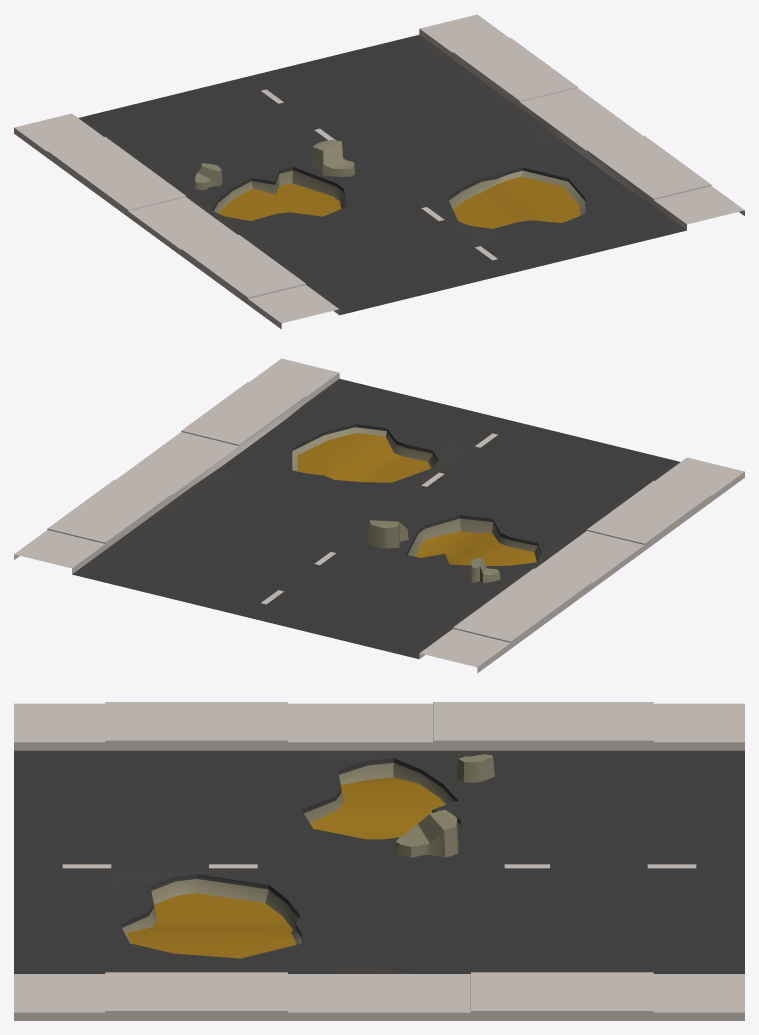
The model's file is quaternius-zombie-apocalypse-kit-march-street-straight-crack-2.glb.
The picture shows the model from 3 angles, top to bottom: view 1: azimuth 30°, elevation 25°; view 2: azimuth 150°, elevation 25°; view 3: azimuth 270°, elevation 25°; orthographic projection. The views are drawn at different scales.
Visible parts, largest first — view 1: Street_Straight_Crack2; view 2: Street_Straight_Crack2; view 3: Street_Straight_Crack2.
Part boxes in pixels (left/top/right/bottom): Street_Straight_Crack2: left=14, top=14, right=744, bottom=329; Street_Straight_Crack2: left=14, top=358, right=744, bottom=673; Street_Straight_Crack2: left=14, top=702, right=744, bottom=1020.
Bounding box in the file's own units: 8 × 0.5801 × 8.
1 material, 1 textured.
